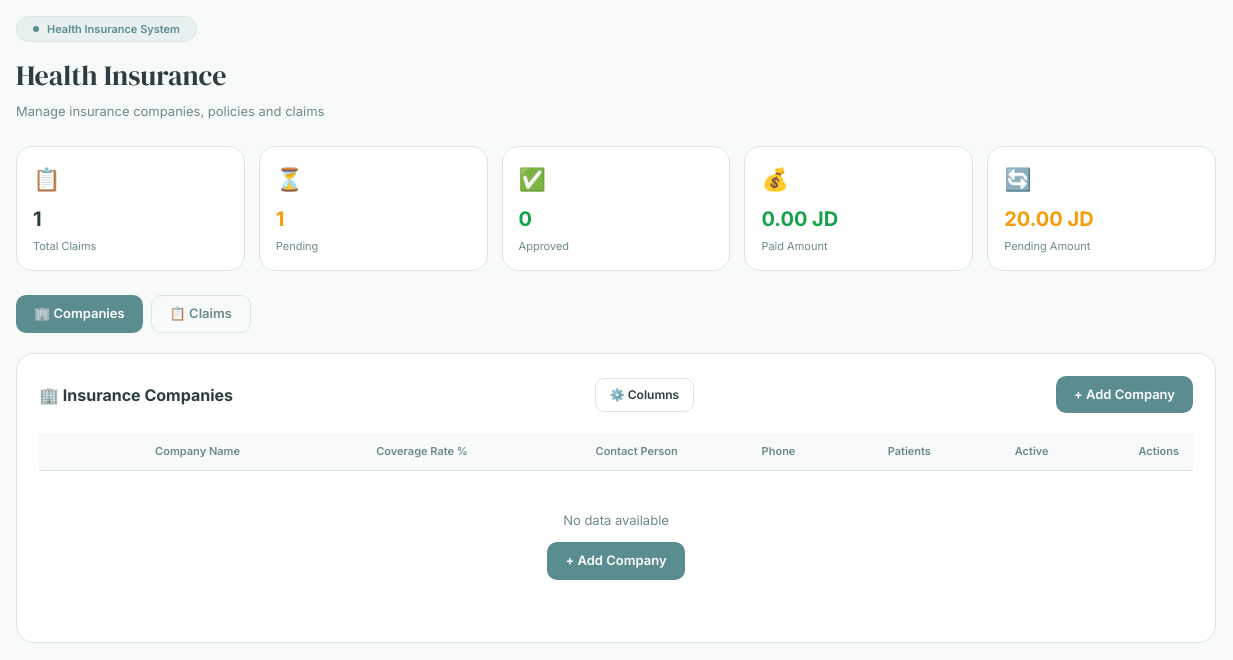
Test: Insurance › switches to the Claims tab and renders a claim row
The image size is (1233, 660).
Expected: the text "No data available" is shown, [563,512,669,528]
Click the button "📋 Claims" at (201, 314), box [151,295,251,333]
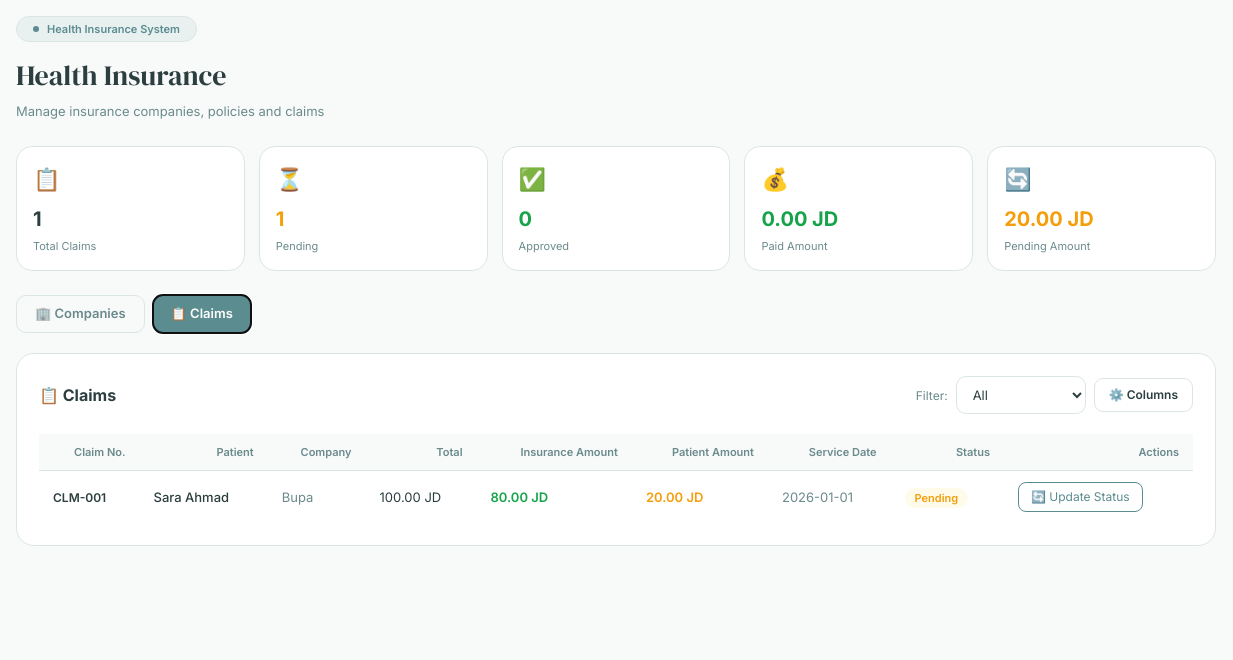
Result: the text "CLM-001" is shown at [53,490,106,504]
Result: the text "Sara Ahmad" is shown at [154,488,229,504]
